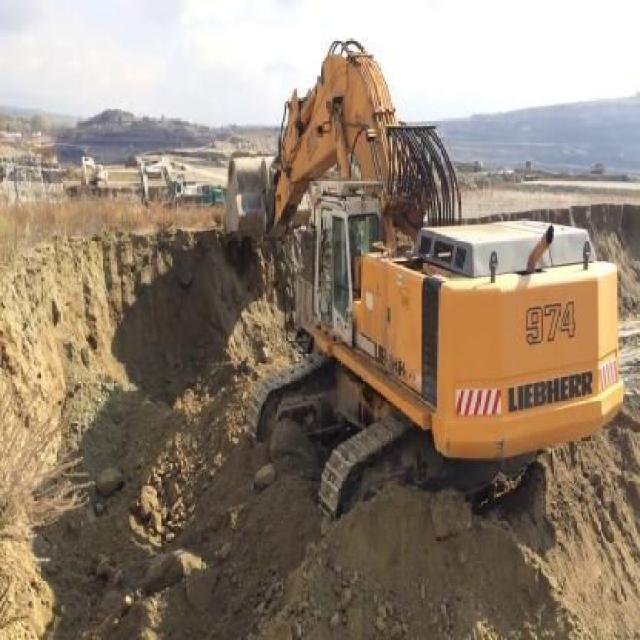Excavator: (221, 34, 625, 528), (136, 146, 202, 197), (80, 155, 108, 190)
